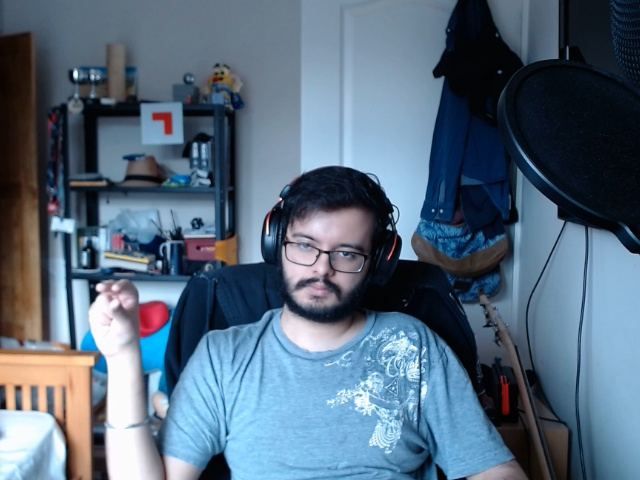No: (81, 266, 150, 373)
